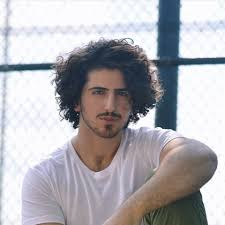middle_eastern_male: (81, 63, 143, 144)
